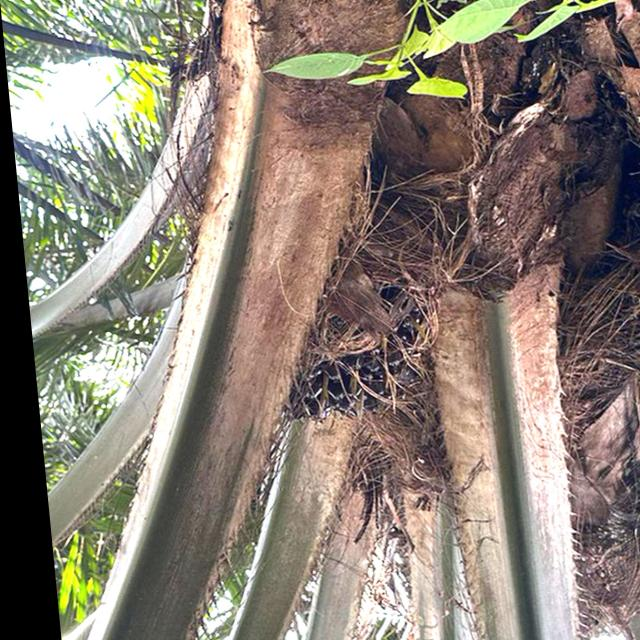ripe: (254, 233, 437, 440)
